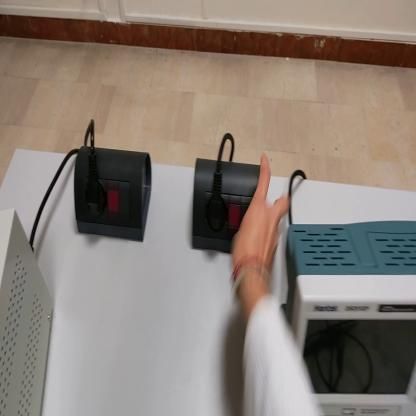hand: (231, 151, 290, 282)
oscilloscope: (285, 214, 416, 416)
power supply: (2, 211, 56, 415)
socket: (72, 146, 155, 245), (194, 159, 259, 255)
